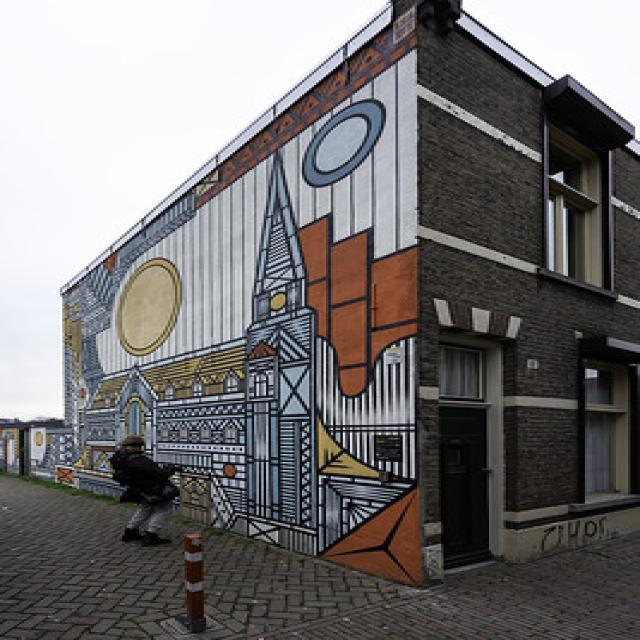building: (49, 11, 639, 590)
